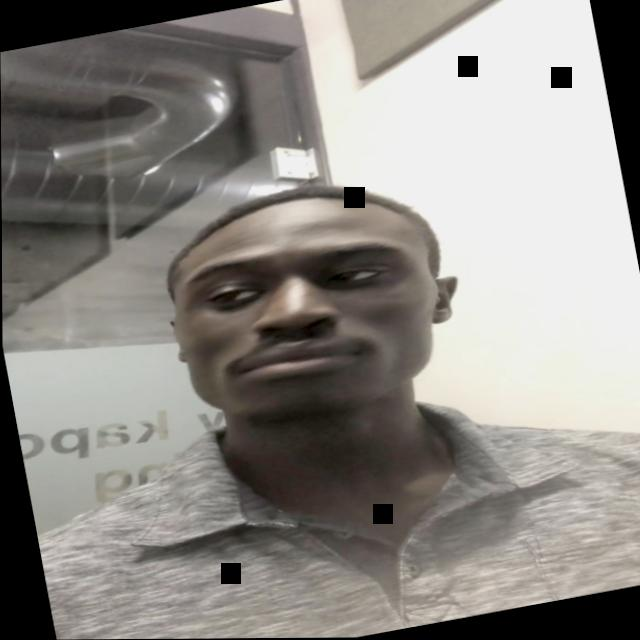NO-Mask: (159, 190, 466, 442)
